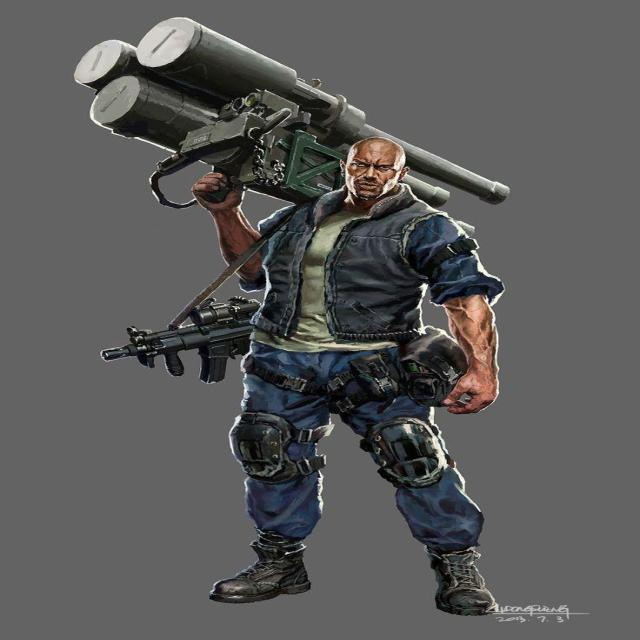weapon: (76, 17, 532, 216), (99, 293, 274, 393)
